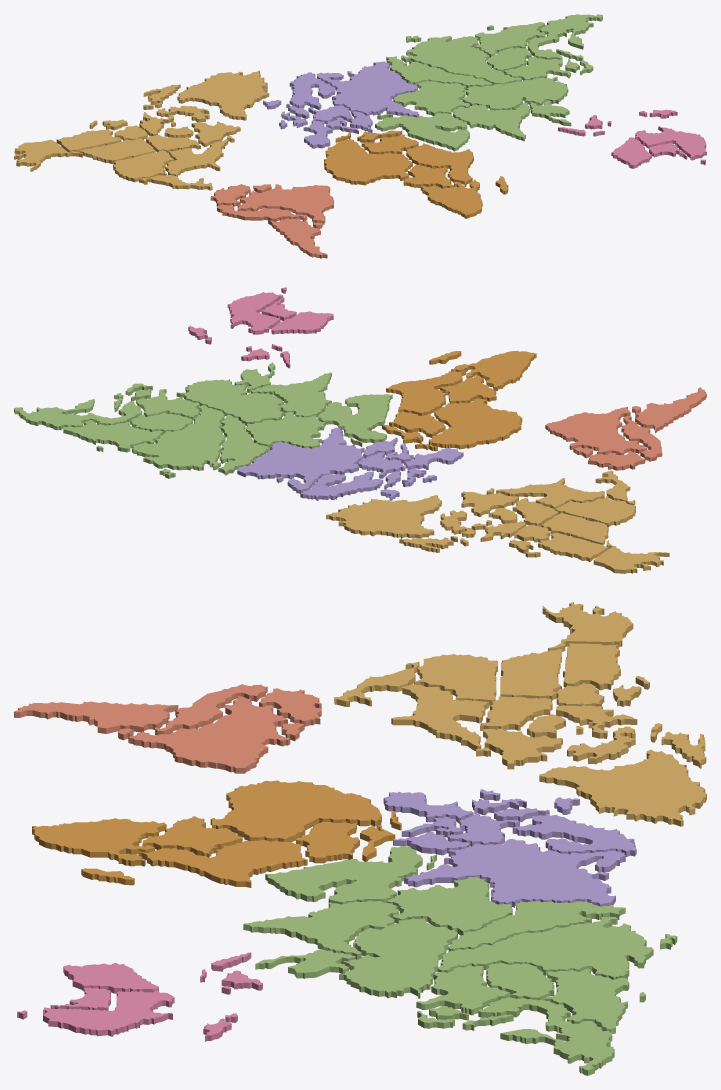
File: world-map-classic.glb
3 views of the same model, one above another, from view 1: azimuth 30°, elevation 25°; view 2: azimuth 150°, elevation 25°; view 3: azimuth 270°, elevation 25° (orthographic). The views are drawn at different scales.
Parts seen in each view (by area): view 1: territory__greenland, territory__ukraine, territory__siberia, territory__northAfrica, territory__brazil, territory__china, territory__middleEast, territory__northwestTerritory, territory__kamchatka, territory__afghanistan, territory__india, territory__eastAfrica (+25 smaller); view 2: territory__greenland, territory__ukraine, territory__siberia, territory__northAfrica, territory__brazil, territory__china, territory__northwestTerritory, territory__middleEast, territory__kamchatka, territory__afghanistan, territory__india, territory__eastAfrica (+25 smaller); view 3: territory__greenland, territory__ukraine, territory__siberia, territory__northAfrica, territory__brazil, territory__china, territory__middleEast, territory__northwestTerritory, territory__kamchatka, territory__eastAfrica, territory__india, territory__afghanistan (+27 smaller).
Boxes of the visible parts, bbox=[...] form: territory__greenland: bbox=[143, 70, 269, 122]; territory__ukraine: bbox=[317, 61, 419, 117]; territory__siberia: bbox=[401, 35, 521, 85]; territory__northAfrica: bbox=[324, 133, 412, 185]; territory__brazil: bbox=[237, 184, 333, 224]; territory__china: bbox=[462, 77, 568, 110]; territory__middleEast: bbox=[375, 112, 469, 151]; territory__northwestTerritory: bbox=[56, 112, 175, 152]; territory__kamchatka: bbox=[527, 14, 602, 60]; territory__afghanistan: bbox=[393, 81, 469, 116]; territory__india: bbox=[453, 101, 529, 141]; territory__eastAfrica: bbox=[406, 143, 473, 186]; territory__greenland: bbox=[326, 495, 475, 552]; territory__ukraine: bbox=[237, 427, 364, 493]; territory__siberia: bbox=[132, 405, 225, 478]; territory__northAfrica: bbox=[413, 398, 522, 451]; territory__brazil: bbox=[545, 407, 647, 458]; territory__china: bbox=[176, 379, 283, 425]; territory__northwestTerritory: bbox=[471, 520, 608, 561]; territory__middleEast: bbox=[317, 394, 392, 446]; territory__kamchatka: bbox=[14, 393, 142, 430]; territory__afghanistan: bbox=[245, 411, 325, 448]; territory__india: bbox=[251, 372, 331, 418]; territory__eastAfrica: bbox=[386, 371, 465, 415]; territory__greenland: bbox=[539, 723, 706, 826]; territory__ukraine: bbox=[404, 839, 625, 907]; territory__siberia: bbox=[437, 916, 677, 979]; territory__northAfrica: bbox=[210, 780, 401, 841]; territory__brazil: bbox=[128, 696, 304, 773]; territory__china: bbox=[339, 918, 457, 998]; territory__middleEast: bbox=[265, 846, 436, 904]; territory__northwestTerritory: bbox=[556, 643, 649, 738]; territory__kamchatka: bbox=[462, 997, 614, 1075]; territory__eastAfrica: bbox=[138, 840, 307, 887]; territory__india: bbox=[243, 900, 412, 959]; territory__afghanistan: bbox=[386, 876, 512, 935].
Size of the model in its own units: 14.15 by 0.08 by 8.85.
